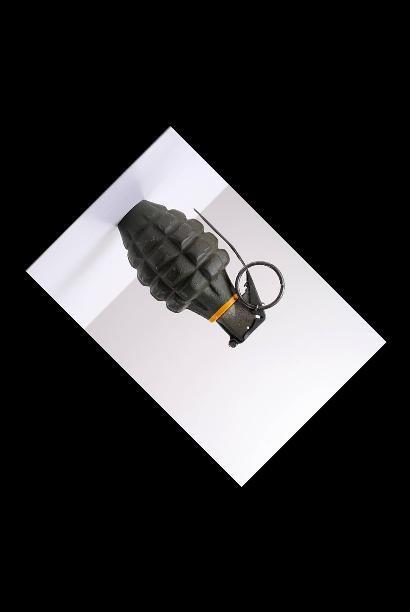Grenade: (116, 198, 284, 347)
